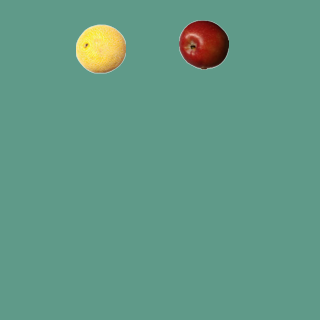Apple Braeburn: (178, 19, 228, 69)
Cantaloupe 1: (75, 23, 125, 73)
